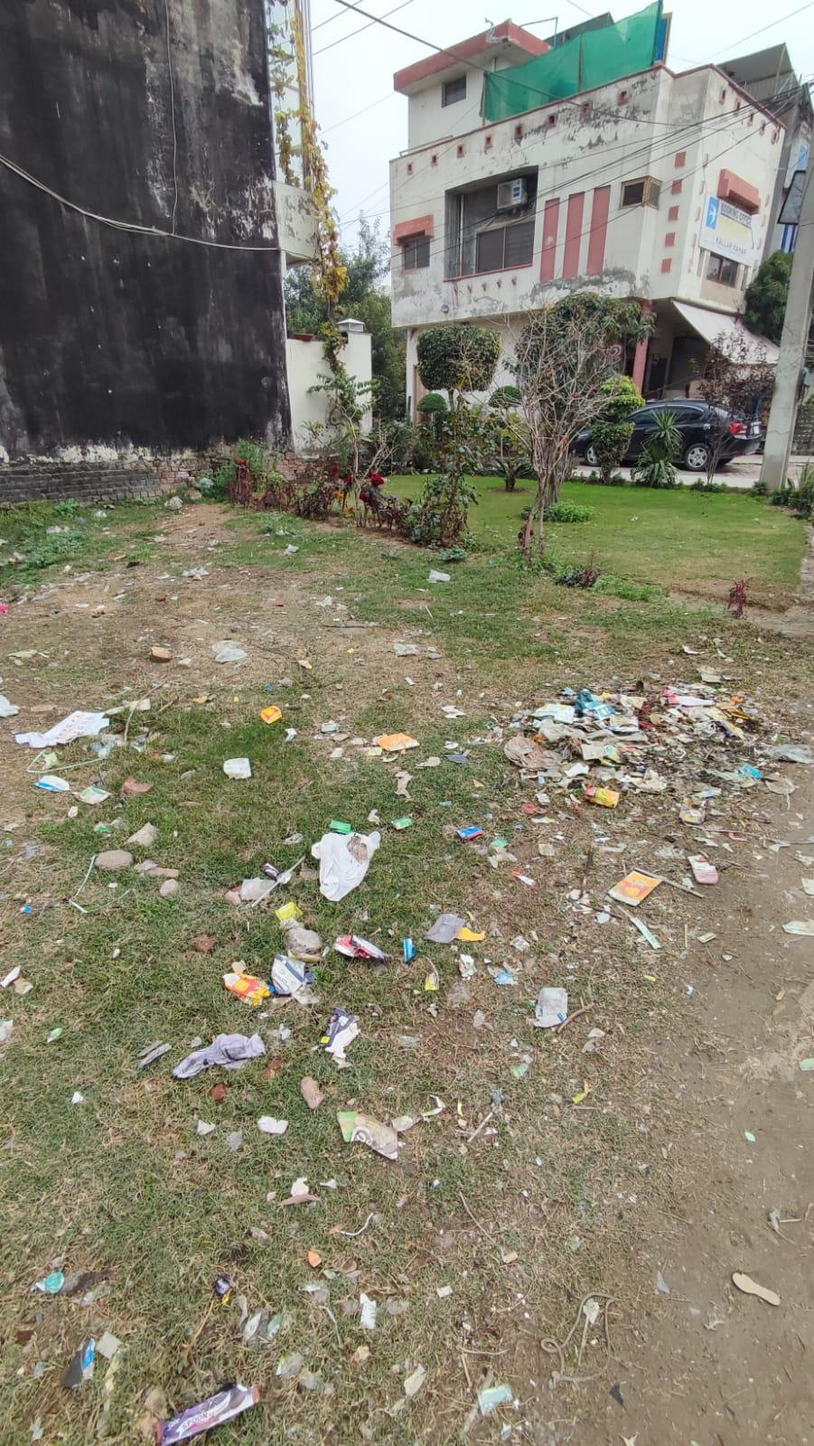garbage: (465, 621, 777, 871)
